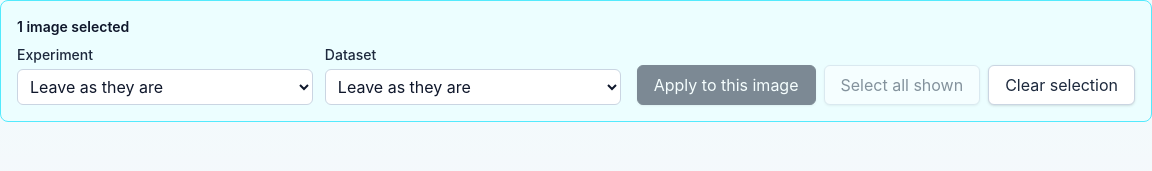
Test: LibrarySelectionBar › warns before a move that would empty a dataset
The image size is (1152, 171).
Select "Fed cohort (0)" in the dropdown labelled "Experiment" at (165, 87), box [17, 69, 313, 105]
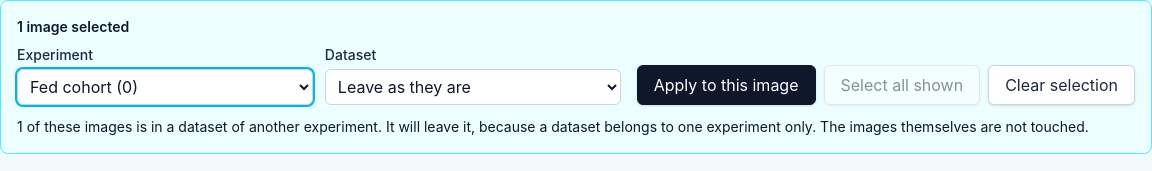
Expected: the text "in a dataset of another experiment" is shown, [151, 118, 382, 135]
